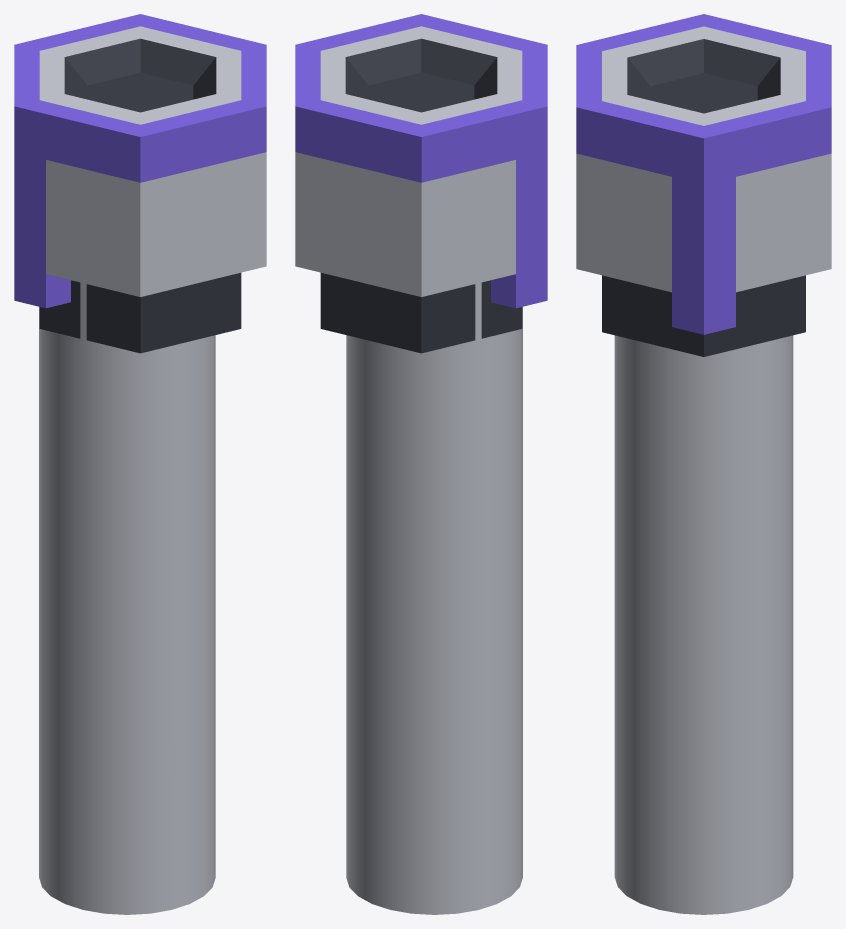
The model's file is mouth.fbx.
3 views of the same model, side by side, from view 1: azimuth 30°, elevation 25°; view 2: azimuth 150°, elevation 25°; view 3: azimuth 270°, elevation 25° (orthographic).
Parts seen in each view (by area): view 1: mergedBlocks; view 2: mergedBlocks; view 3: mergedBlocks.
Boxes of the visible parts, x1,y1,x2,y2 form: mergedBlocks: (14,14,266,914); mergedBlocks: (295,14,547,914); mergedBlocks: (576,14,831,914).
Bounding box in the file's own units: 5.77 × 17.47 × 5.
